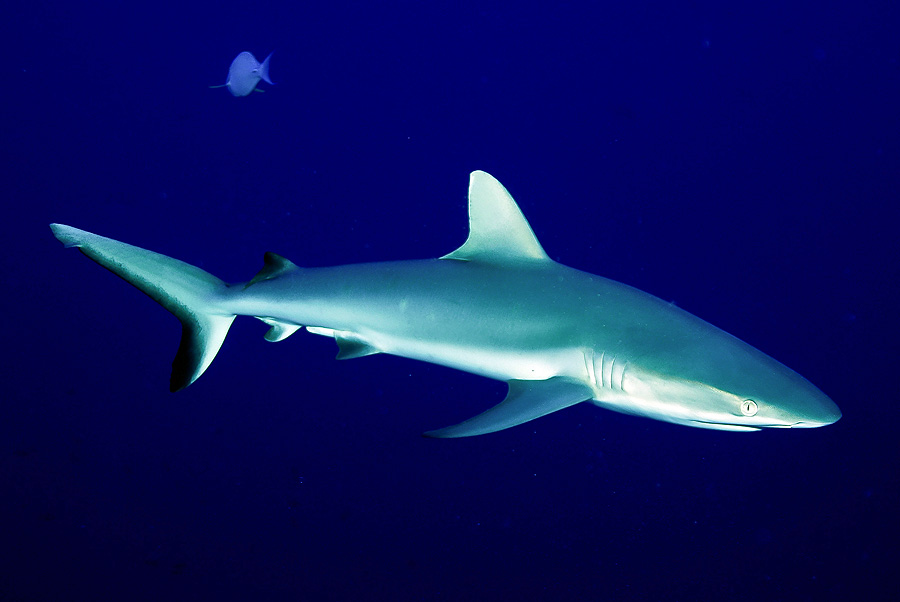Carcharhinus_amblyrhynchos: (45, 157, 850, 459)
